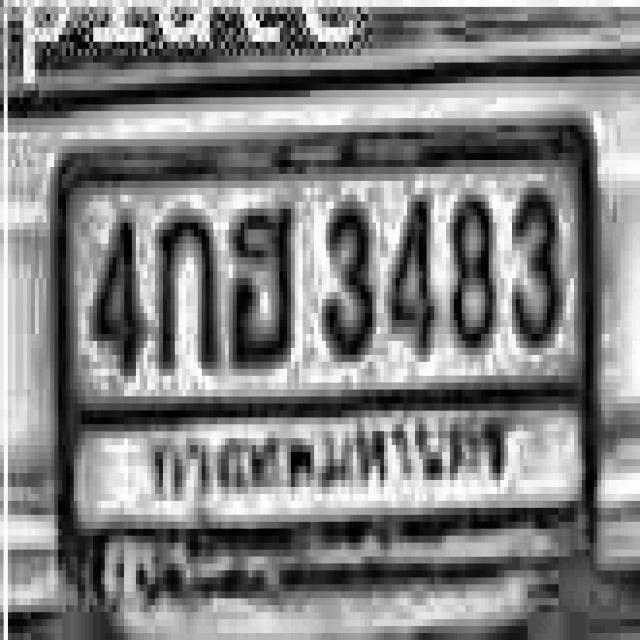license-plate: (48, 114, 608, 615)
